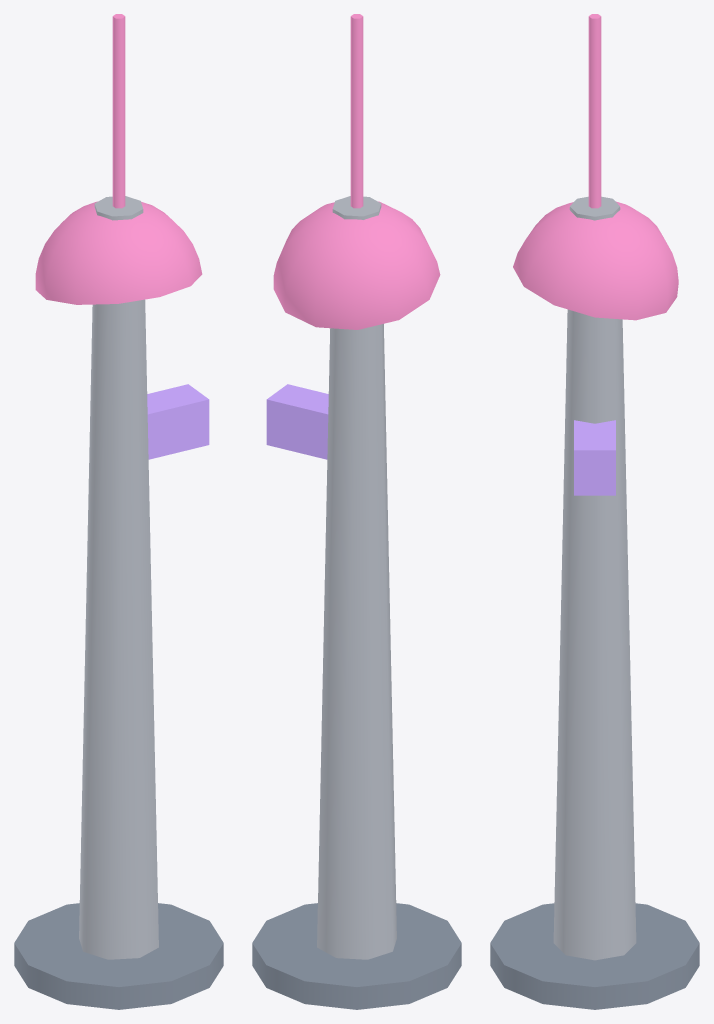
File: combined.glb
The picture shows the model from 3 angles, left to right: view 1: azimuth 30°, elevation 25°; view 2: azimuth 150°, elevation 25°; view 3: azimuth 270°, elevation 25°; orthographic projection.
Size of the model in its own units: 0.5 by 2.5 by 0.5.
